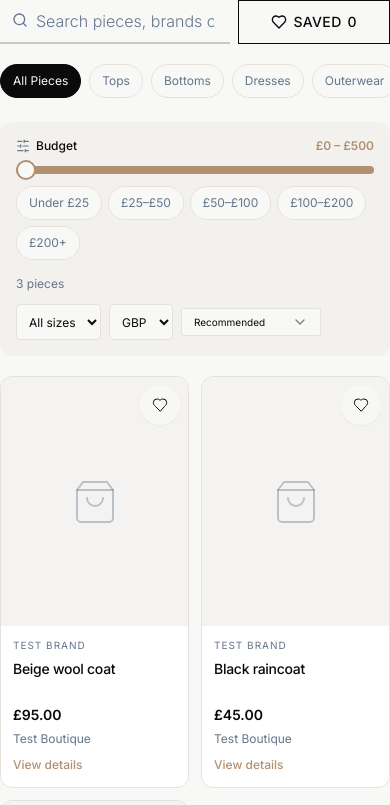
Test case: in-app shop journey › browses details before any retailer handoff and saves across visits
This screenshot has width=390, height=805.
Later steps or results of the test are not shown.
Step 1. Click the button named "Save Beige wool coat" → (160, 405), box [140, 385, 180, 425]
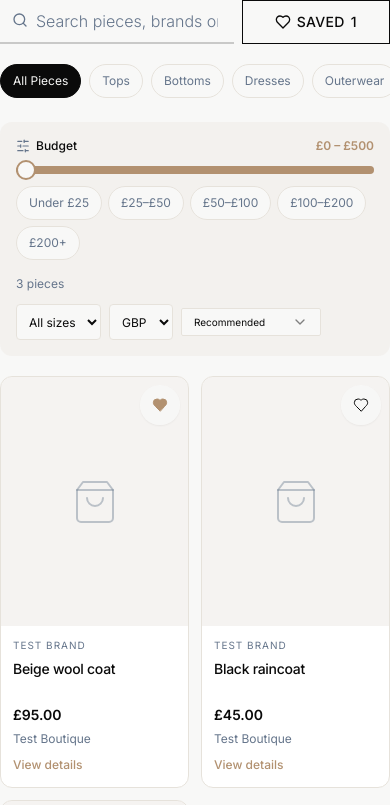
expect the button named "Unsave Beige wool coat" is pressed: met, box [140, 385, 180, 425]
Step 2. Click the button with aria-label "View Beige wool coat" → (94, 582), box [1, 377, 188, 787]
(page scrolled)
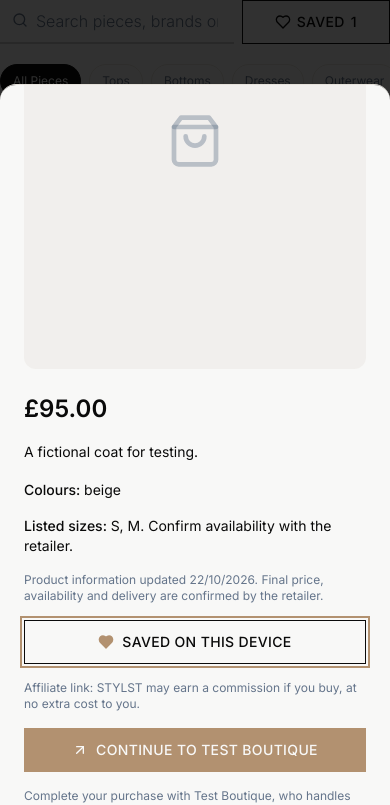
expect the button "Continue to Test Boutique" is shown: met, box [24, 728, 366, 772]
expect the text "STYLST may earn a commission if you buy" is shown: met, box [24, 680, 357, 711]
